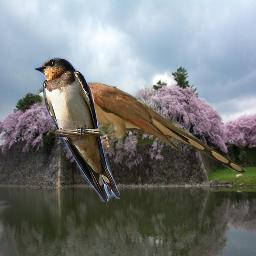Cuckoo: (33, 79, 247, 174)
Swallow: (33, 57, 120, 202)
